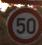Speed Limit -50-: (0, 1, 41, 44)
